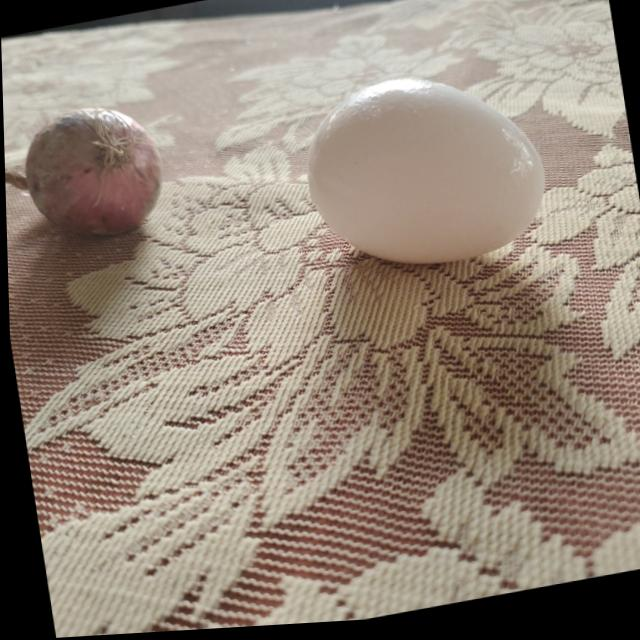egg: (295, 61, 551, 293)
onion: (14, 102, 162, 246)
